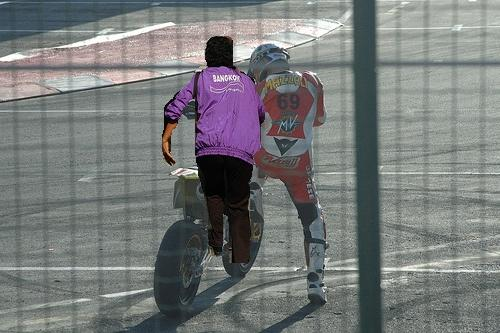tampered: (163, 37, 265, 263)
